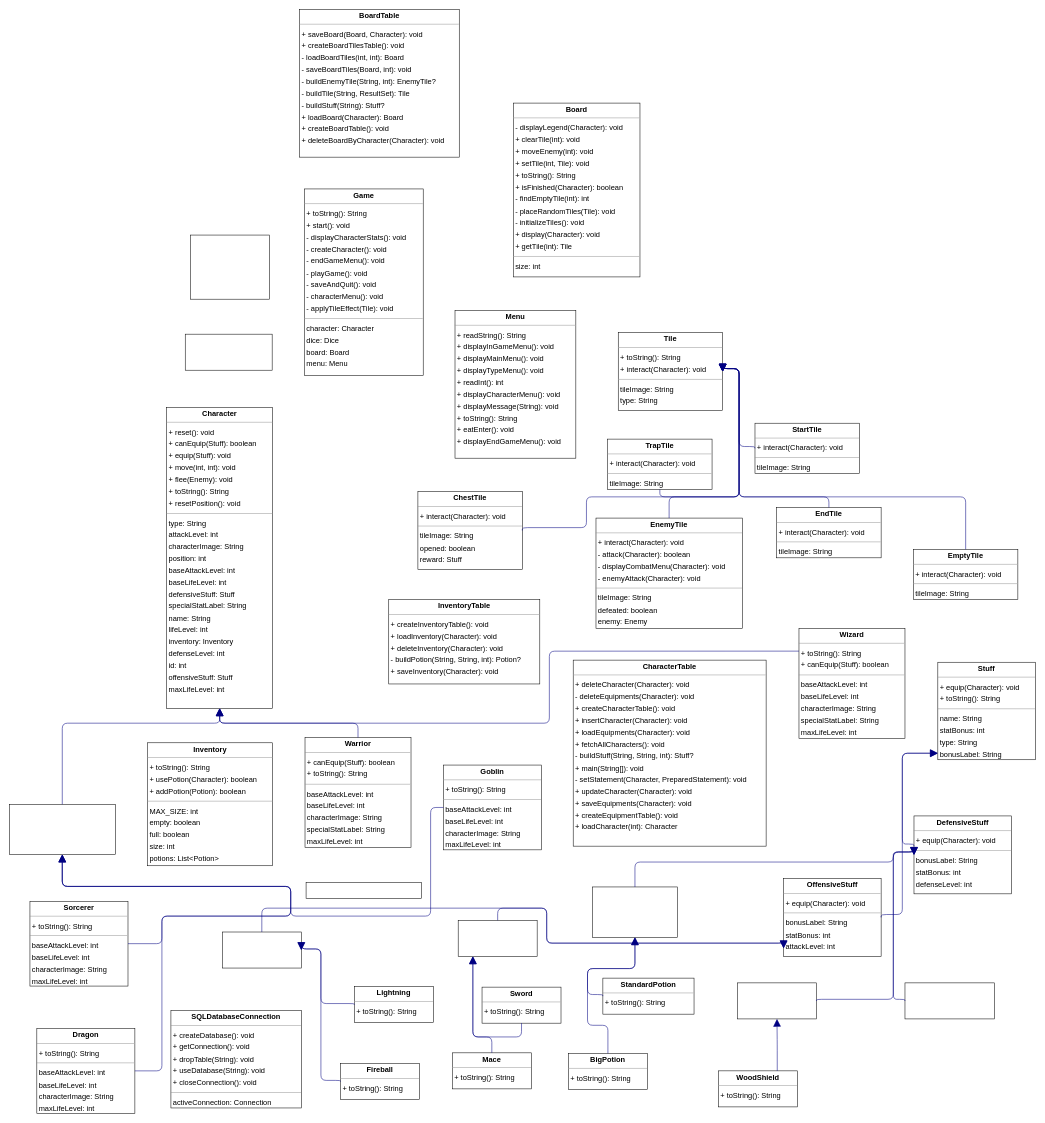
This 1045x1123 diagram has some shape labels left out. The centre of each missing label's shape, as x and y in pixels:
"Dice + toString(): String + roll(): int faces: int" belongs at point 230,267.
"Enemy + canEquip(Stuff): boolean specialStatLabel: String" belongs at point 62,829.
"Main + main(String[]): void" belongs at point 228,352.
"OutOfBoardException" belongs at point 364,890.
"Potion + toString(): String bonusLabel: String" belongs at point 635,911.
"ProtectionSpell + toString(): String" belongs at point 949,1000.
"Shield + toString(): String" belongs at point 776,1000.
"Spell + toString(): String" belongs at point 261,949.
"Weapon + toString(): String" belongs at point 497,938.
